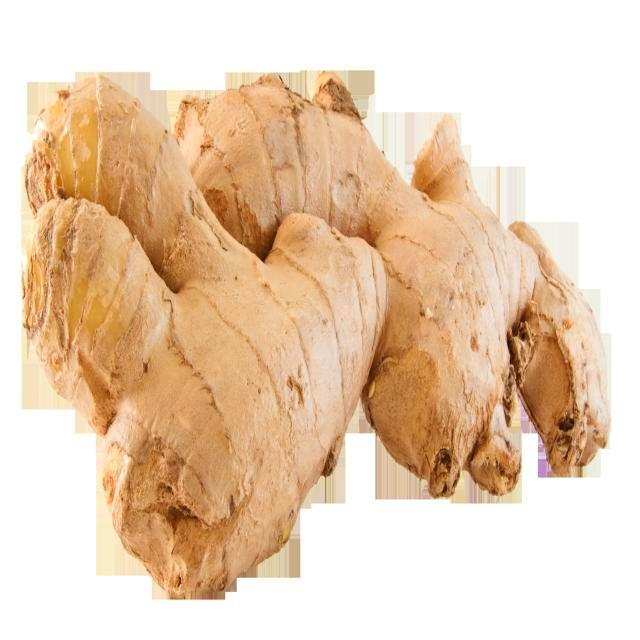ginger: (13, 43, 618, 623)
